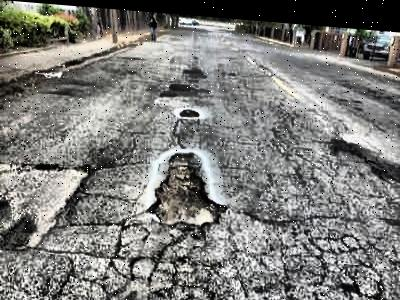pothole: (147, 145, 224, 226), (177, 102, 200, 116)
